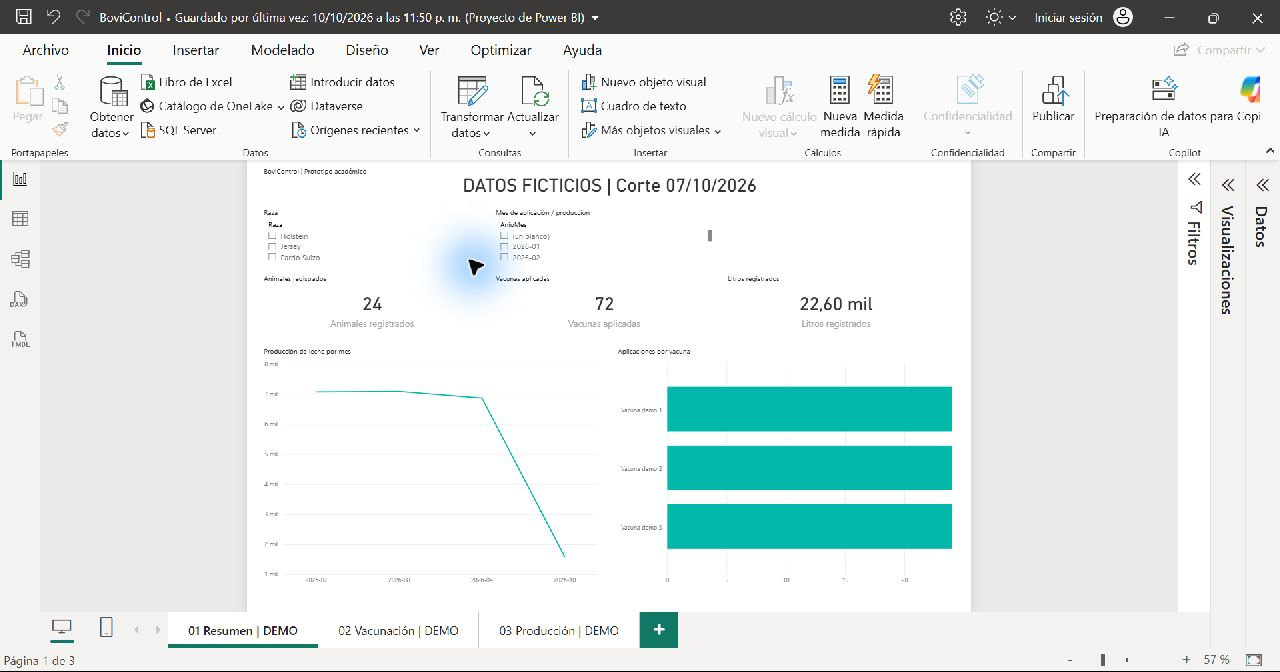

The dashboard page shown, as its layout file describes it:
{"tool":"powerbi","page":{"name":"01 Resumen | DEMO","canvas":[1280,800],"ordinal":0},"visuals":[{"type":"card","title":"BoviControl | Prototipo académico","fields":{"Values":["FactVacunacion.Aviso demo"]},"box":[24,12,1232,65],"z":0},{"type":"slicer","title":"Raza","fields":{"Values":["DimAnimal.Raza"]},"box":[24,85,392,100],"z":1},{"type":"slicer","title":"Mes de aplicación / producción","fields":{"Values":["DimFecha.AnioMes"]},"box":[434,85,392,100],"z":2},{"type":"card","title":"Animales registrados","fields":{"Values":["FactVacunacion.Animales registrados"]},"box":[24,202,392,106],"z":3},{"type":"card","title":"Vacunas aplicadas","fields":{"Values":["FactVacunacion.Vacunas aplicadas"]},"box":[434,202,392,106],"z":4},{"type":"card","title":"Litros registrados","fields":{"Values":["FactVacunacion.Litros registrados"]},"box":[844,202,392,106],"z":5},{"type":"lineChart","title":"Producción de leche por mes","fields":{"Category":["DimFecha.AnioMes"],"Y":["FactVacunacion.Litros registrados"]},"box":[24,330,600,430],"z":6},{"type":"clusteredBarChart","title":"Aplicaciones por vacuna","fields":{"Category":["DimVacuna.Nombre"],"Y":["FactVacunacion.Vacunas aplicadas"]},"box":[650,330,606,430],"z":7}]}

Visuals, with their boxes on the page's 1280x800 design canvas (x1, y1, x2, y2). These are canvas units, not pixel positions in the 1280x672 screenshot, which may show the page scaled, cropped or inside an application window:
"BoviControl | Prototipo académico" card: 24, 12, 1256, 77
"Raza" slicer: 24, 85, 416, 185
"Mes de aplicación / producción" slicer: 434, 85, 826, 185
"Animales registrados" card: 24, 202, 416, 308
"Vacunas aplicadas" card: 434, 202, 826, 308
"Litros registrados" card: 844, 202, 1236, 308
"Producción de leche por mes" lineChart: 24, 330, 624, 760
"Aplicaciones por vacuna" clusteredBarChart: 650, 330, 1256, 760
